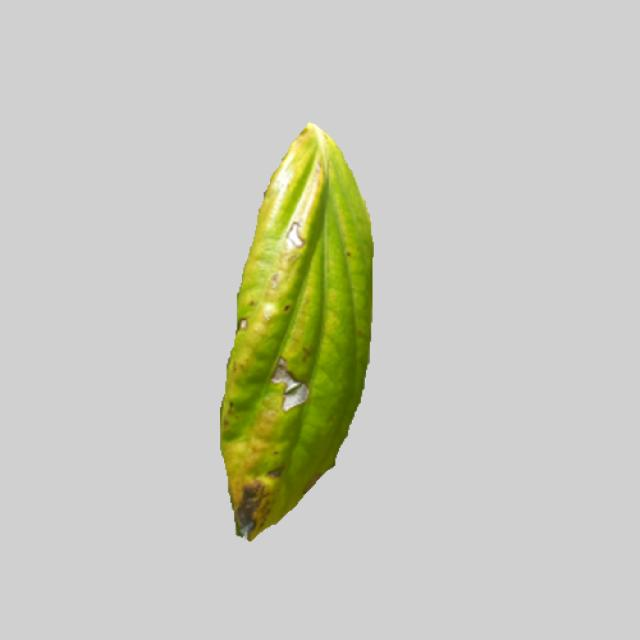yellow-mottle-virus: (179, 115, 379, 543)
